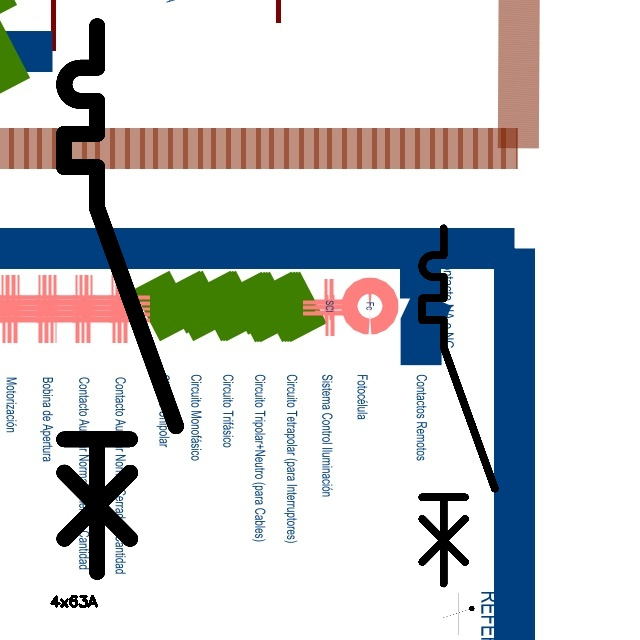interruptor_termomagnetico: (50, 12, 190, 586), (413, 219, 504, 593)
